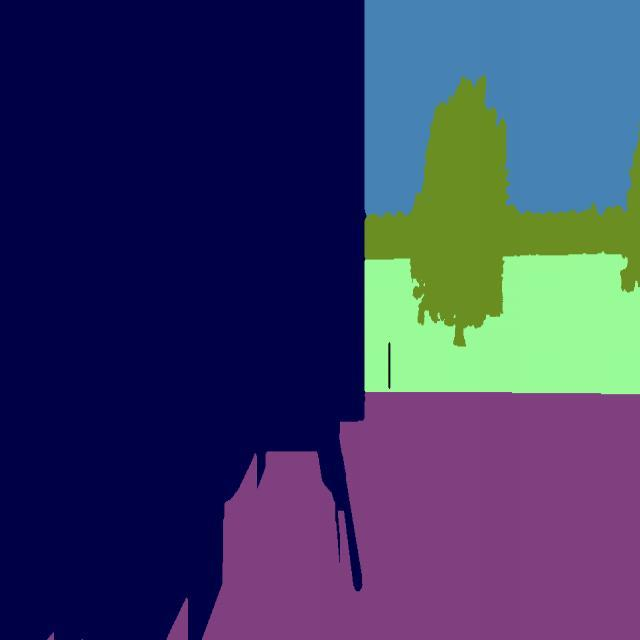unsafe: (0, 0, 371, 640)
